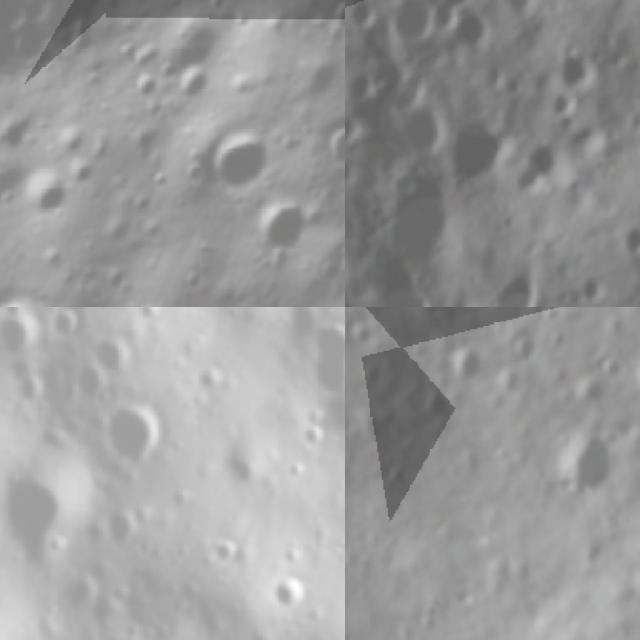crater: (145, 0, 249, 102), (191, 115, 290, 216), (383, 167, 466, 267), (111, 256, 268, 307), (0, 463, 75, 569), (245, 182, 322, 269), (545, 419, 620, 508), (0, 162, 78, 235), (442, 110, 524, 179), (280, 46, 345, 118), (101, 401, 165, 472), (512, 146, 580, 206), (399, 100, 461, 155), (306, 315, 345, 400), (0, 96, 46, 168), (376, 248, 432, 307), (52, 13, 105, 75), (0, 271, 88, 307), (167, 57, 221, 112), (249, 0, 304, 54), (441, 338, 492, 390), (491, 263, 548, 307), (87, 327, 136, 378), (453, 5, 500, 57), (391, 0, 438, 48), (52, 117, 98, 166), (560, 47, 607, 93), (64, 356, 110, 403), (309, 120, 345, 180), (262, 570, 306, 616), (102, 504, 146, 550), (0, 316, 41, 364), (576, 368, 617, 414), (123, 68, 165, 112), (345, 0, 387, 40), (542, 88, 584, 128), (577, 268, 617, 307), (47, 307, 90, 343), (108, 31, 144, 72), (345, 67, 377, 113), (505, 330, 543, 368), (67, 154, 104, 192), (192, 364, 230, 401), (312, 253, 345, 288), (320, 0, 345, 46), (298, 422, 329, 456), (214, 531, 241, 570), (619, 223, 640, 264), (332, 240, 345, 289), (466, 307, 506, 322), (629, 563, 640, 614)
